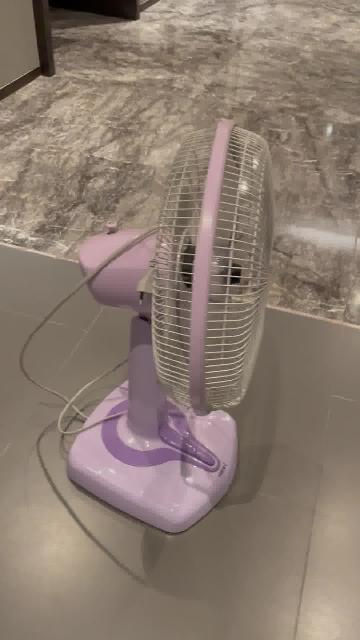Fan: (67, 120, 274, 536)
